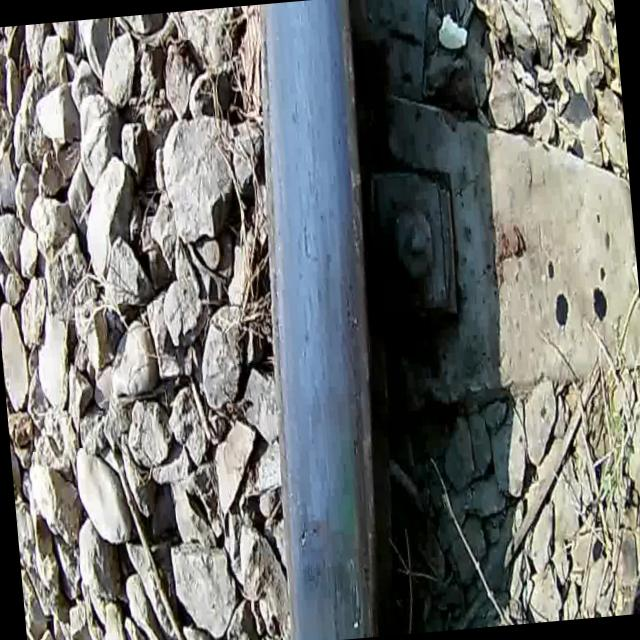Squats: (210, 0, 431, 640)
